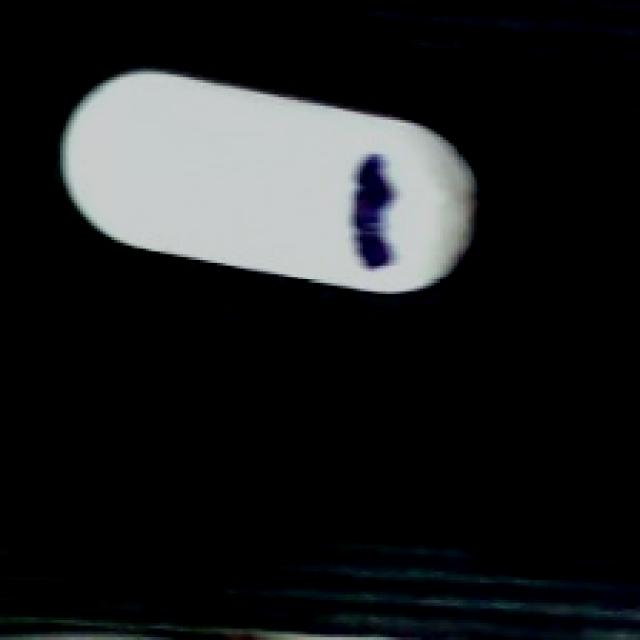defected: (57, 69, 492, 297)
